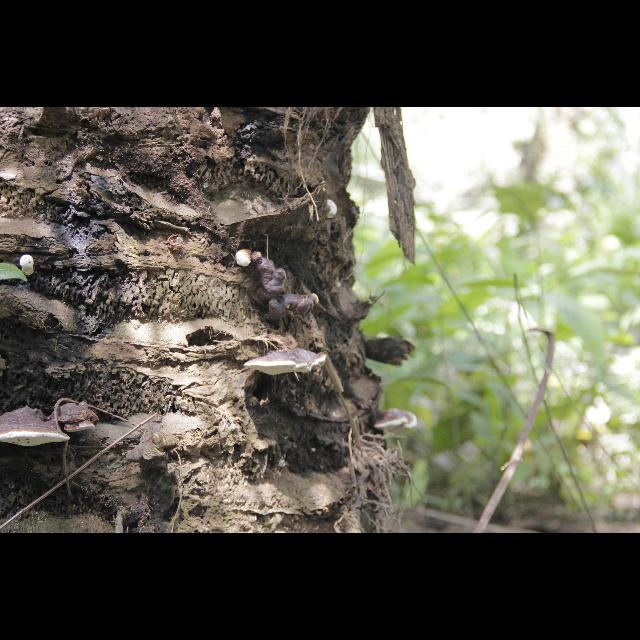ganoderma: (253, 252, 311, 325), (1, 408, 71, 448), (245, 348, 329, 378), (53, 403, 101, 434), (374, 409, 418, 436)
primordium: (20, 255, 36, 277), (236, 250, 253, 268), (328, 200, 339, 220), (312, 295, 320, 308)
